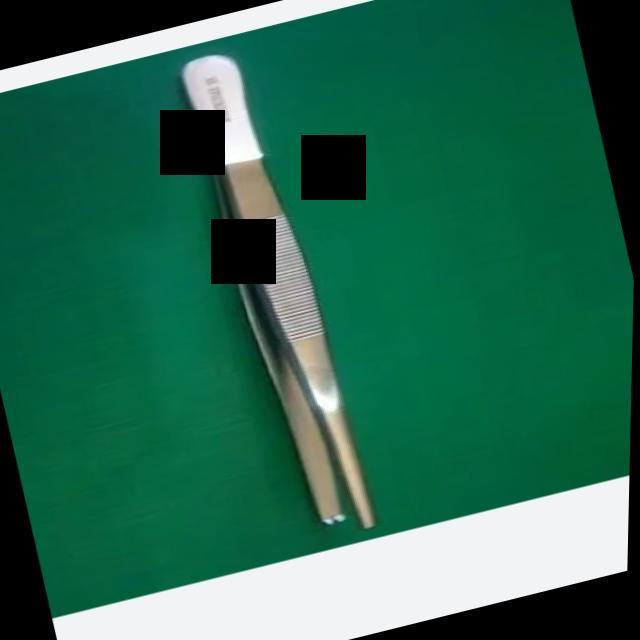Disscting Forceps -tooth-: (152, 28, 416, 554)
